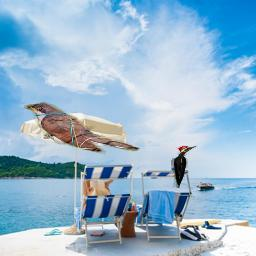Cuckoo: (23, 100, 142, 157)
Woodpecker: (171, 145, 198, 188)
